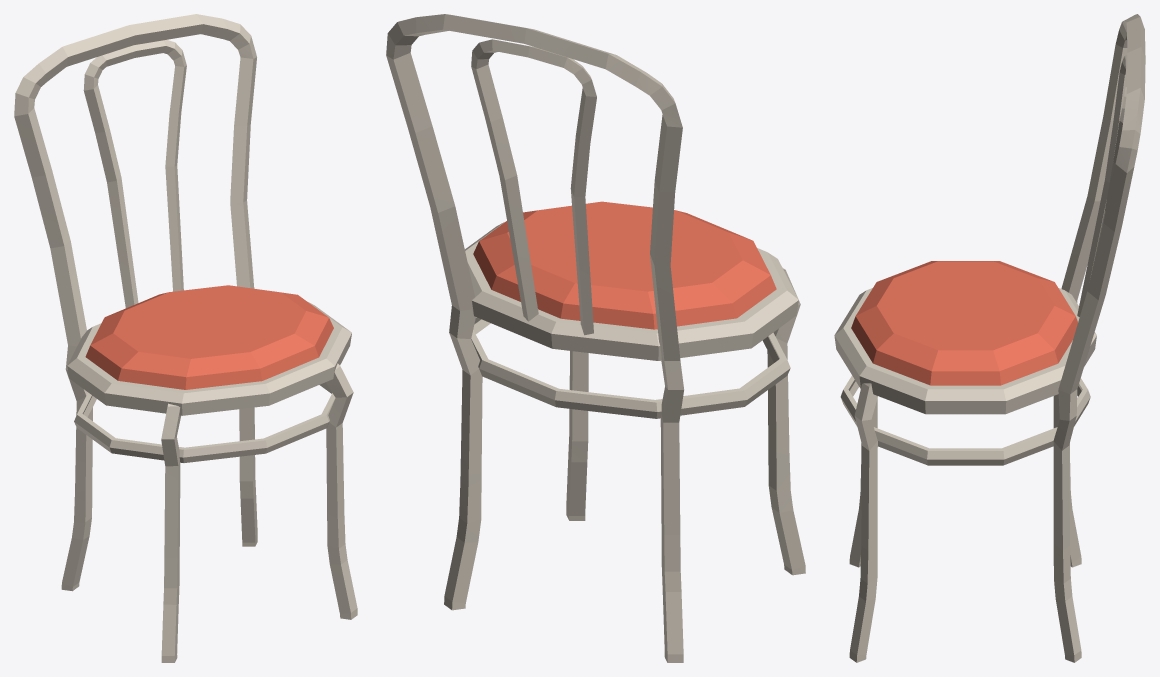
Rendered from chair_b.glb.
The picture shows the model from 3 angles, left to right: view 1: azimuth 30°, elevation 25°; view 2: azimuth 150°, elevation 25°; view 3: azimuth 270°, elevation 25°; orthographic projection. The views are drawn at different scales.
Parts seen in each view (by area): view 1: body; view 2: body; view 3: body.
Boxes of the visible parts, bbox=[...] form: body: bbox=[14, 14, 357, 662]; body: bbox=[386, 14, 805, 662]; body: bbox=[834, 14, 1145, 662].
Size of the model in its own units: 0.45 by 0.9 by 0.45.
